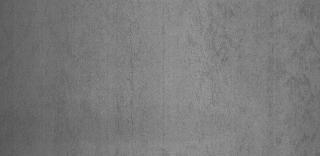silk spot: (176, 0, 316, 152), (56, 2, 166, 150)
